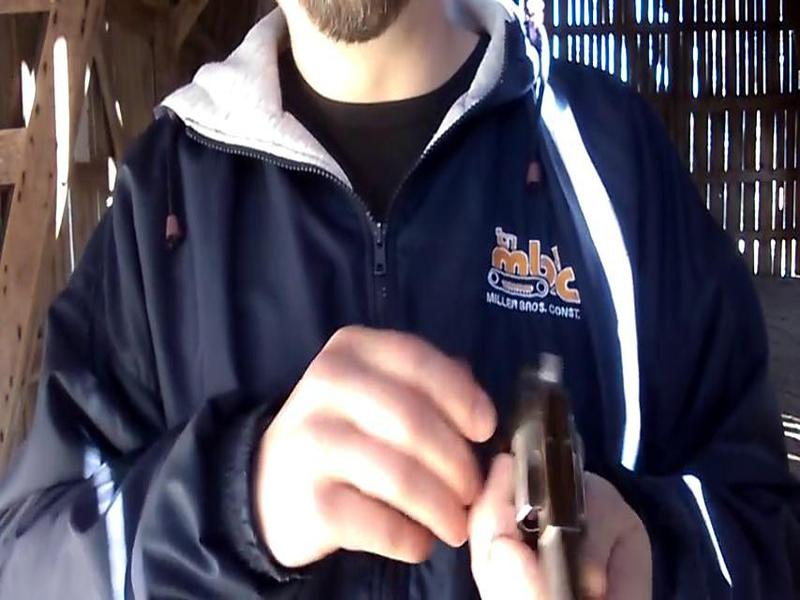Revolver: (484, 349, 631, 566)
